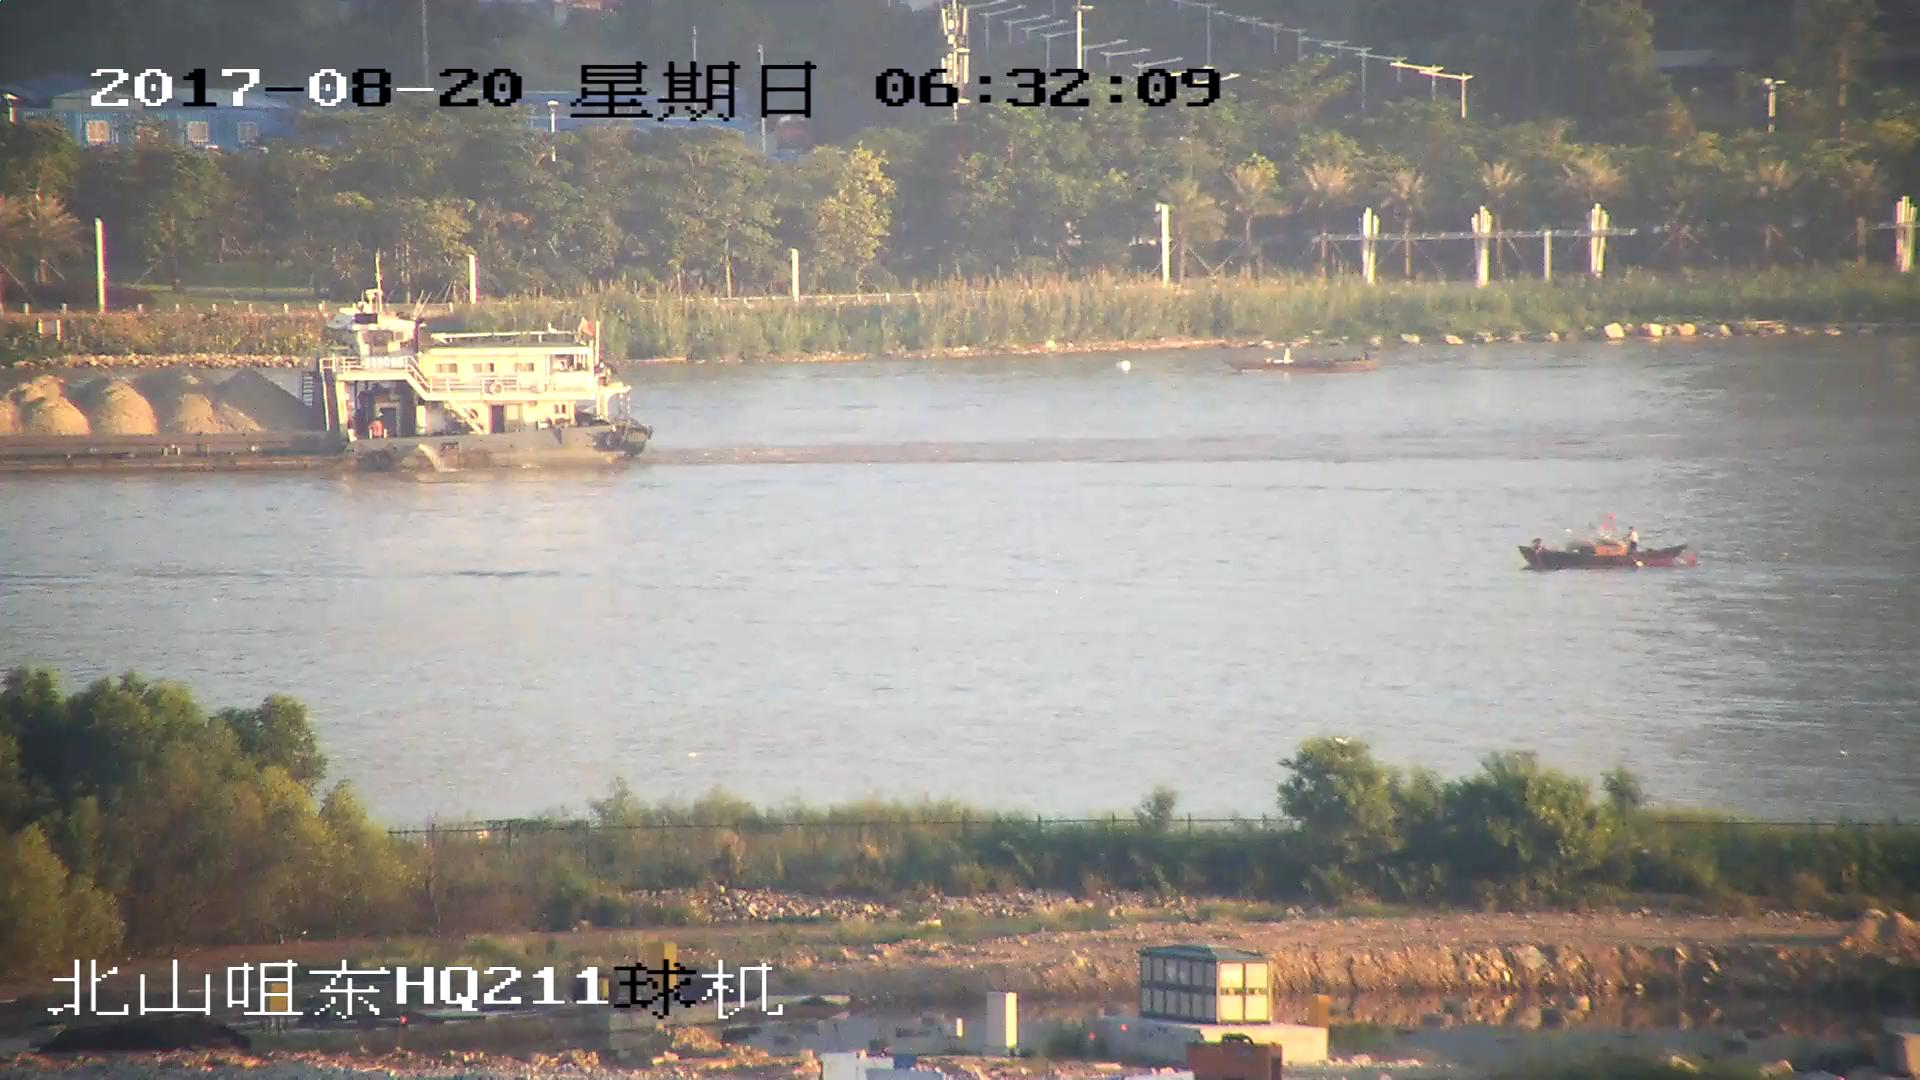fishing boat: (1517, 512, 1704, 575)
ore carrier: (1, 260, 651, 470)
